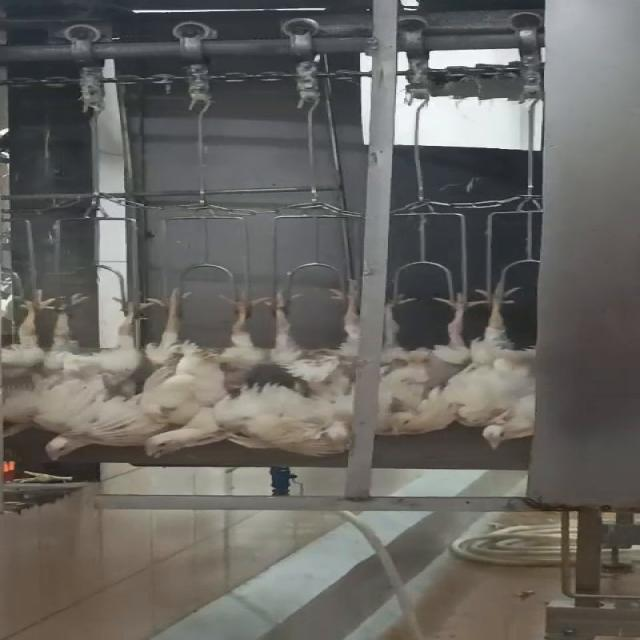chicken: (135, 278, 261, 457), (44, 285, 152, 461), (263, 279, 352, 461), (459, 280, 549, 450), (377, 277, 464, 441), (0, 289, 69, 441)
